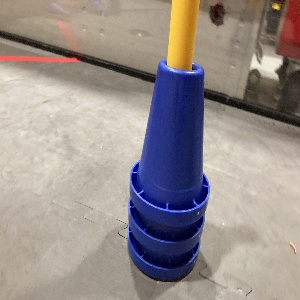Blue_4: (127, 62, 207, 277)
